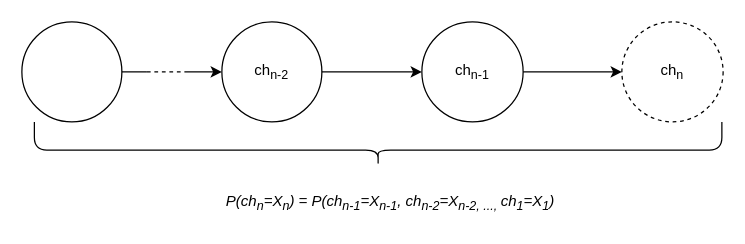
This 745x244 diagram has some shape labels left out. The centre of each missing label's shape, as x and y in pixels:
"ch 1" goes at [71,71].
"Word" goes at [377,143].
